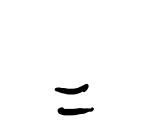eqv: (49, 79, 98, 117)
